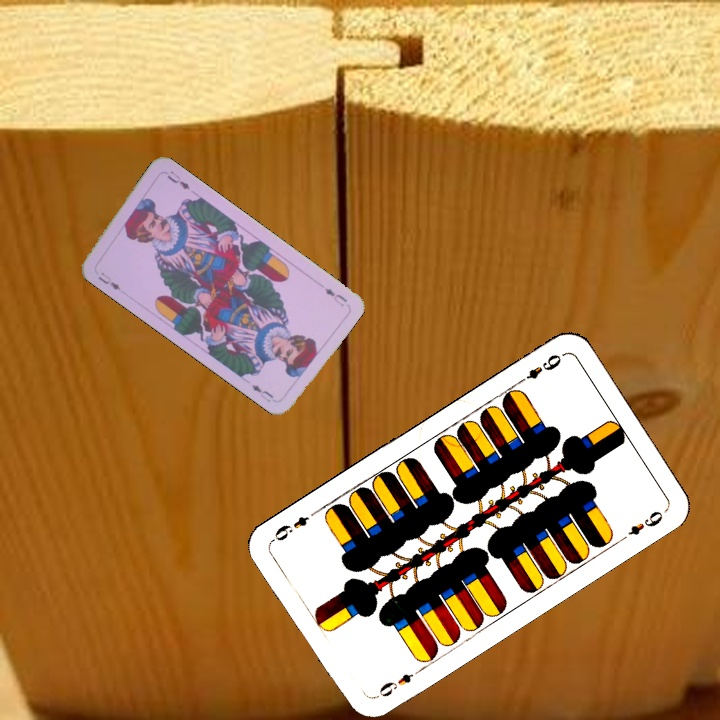E9: (513, 350, 564, 387), (370, 669, 416, 702)
EU: (94, 268, 123, 293), (321, 284, 350, 309)
